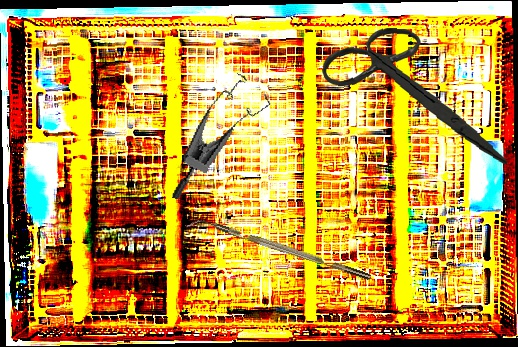Chopper: (185, 212, 372, 289)
Iris Scissors: (316, 23, 517, 165)
Speculum: (169, 64, 277, 218)
